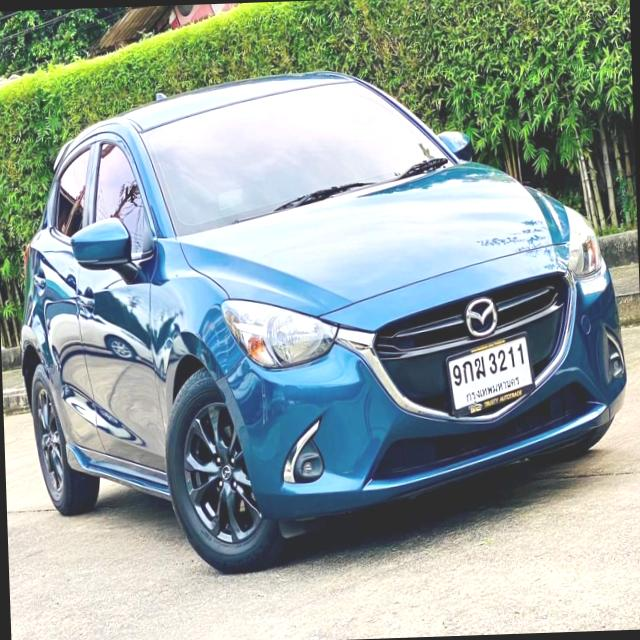license_plate: (442, 329, 538, 418)
